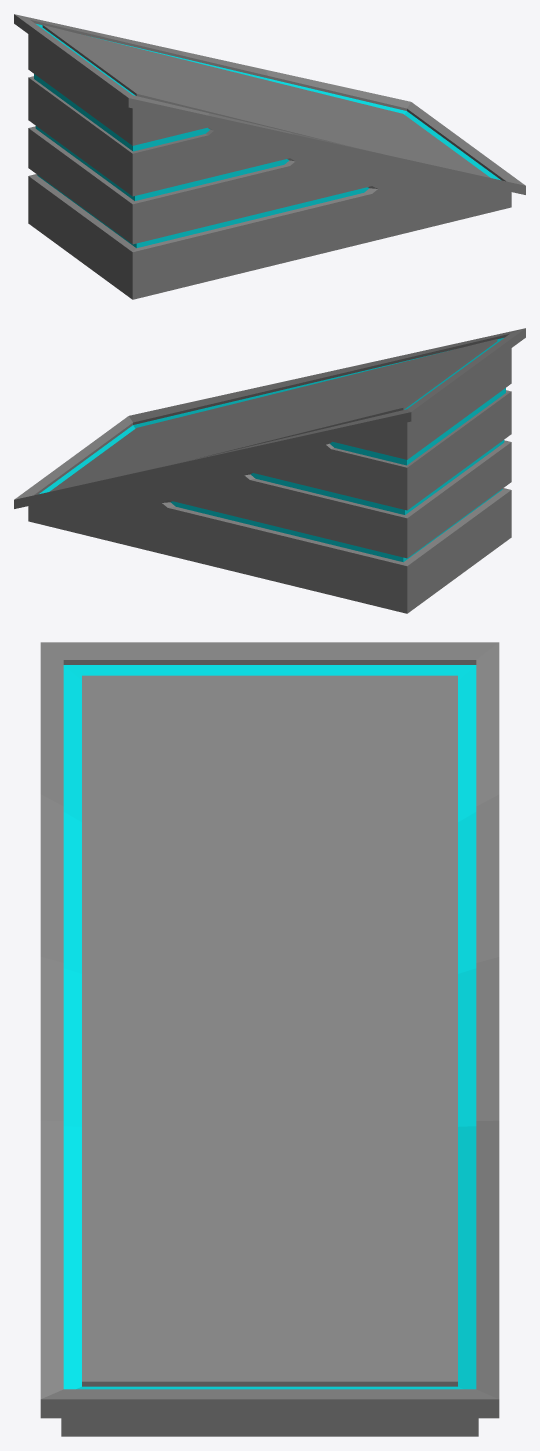
Rendered from Ramp_Double_Origin_Up.fbx.
The picture shows the model from 3 angles, top to bottom: view 1: azimuth 30°, elevation 25°; view 2: azimuth 150°, elevation 25°; view 3: azimuth 270°, elevation 25°; orthographic projection. The views are drawn at different scales.
Parts seen in each view (by area): view 1: Ramp_Double_Origin_Up; view 2: Ramp_Double_Origin_Up; view 3: Ramp_Double_Origin_Up.
Boxes of the visible parts, x1,y1,x2,y2 form: Ramp_Double_Origin_Up: [14, 14, 525, 299]; Ramp_Double_Origin_Up: [14, 328, 525, 613]; Ramp_Double_Origin_Up: [40, 642, 499, 1436].
Size of the model in its own units: 400 by 200 by 200.
